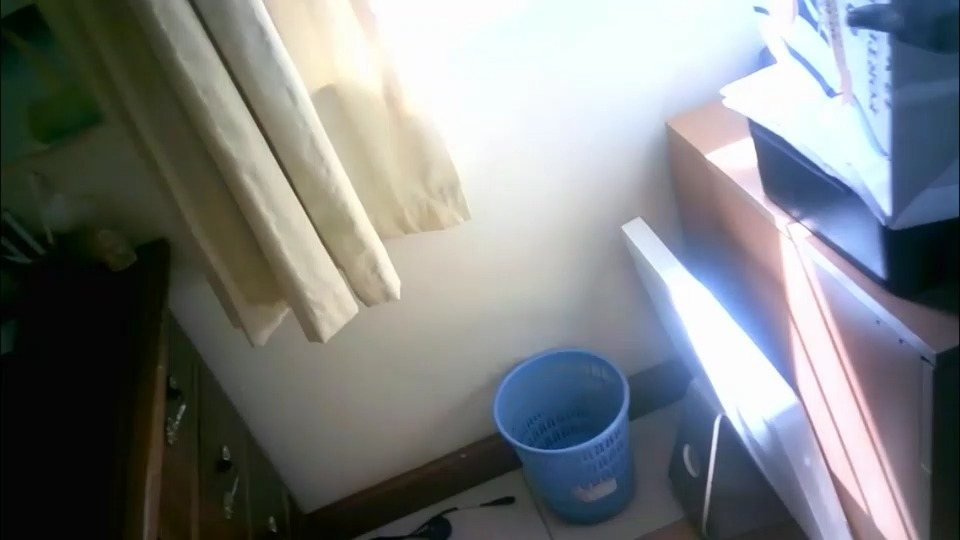wheat_flour_blue_label: (753, 3, 960, 226)
